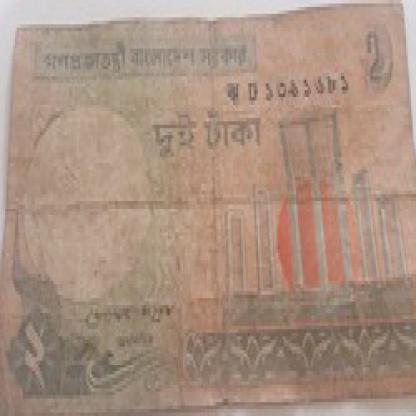two taka: (145, 118, 268, 166), (20, 309, 58, 398)
